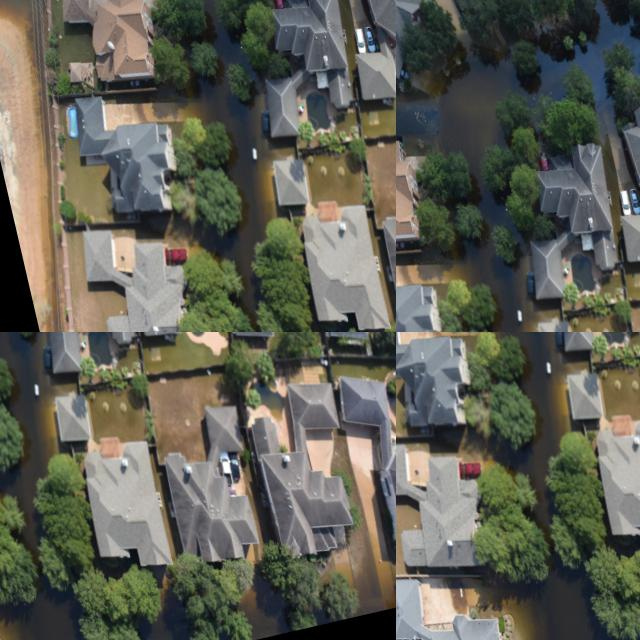fire: (271, 0, 396, 332), (545, 0, 640, 311), (463, 0, 554, 288), (486, 332, 588, 540), (0, 0, 55, 328), (541, 576, 603, 640)
